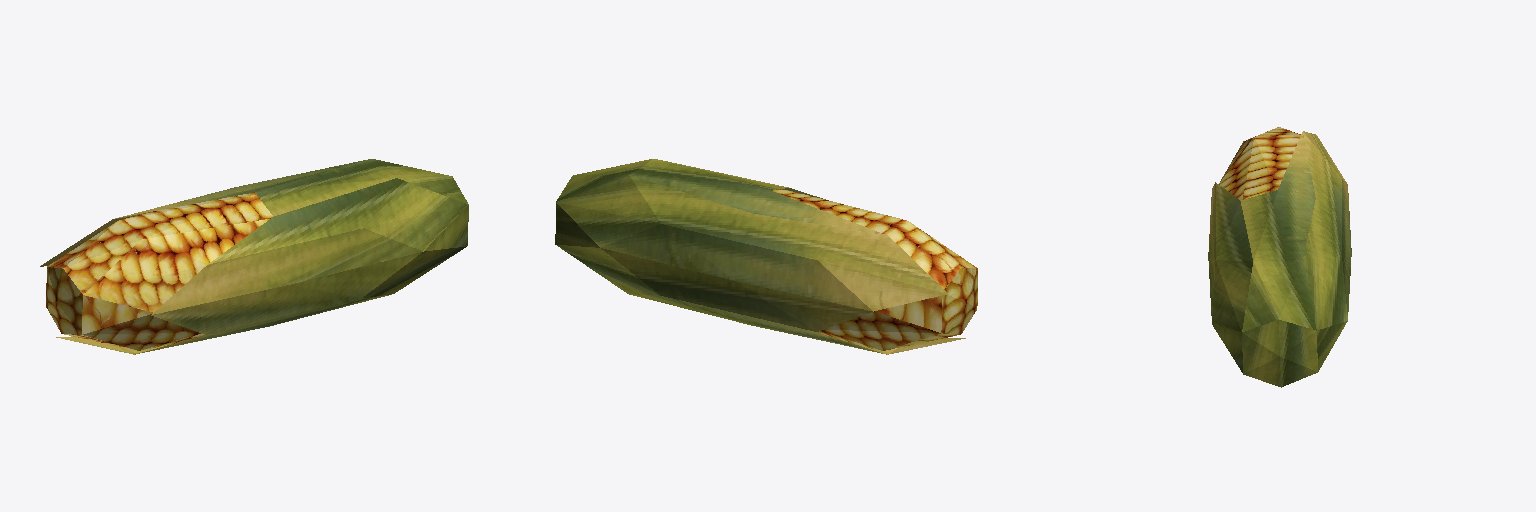
The picture shows the model from 3 angles: view 1: azimuth 30°, elevation 25°; view 2: azimuth 150°, elevation 25°; view 3: azimuth 270°, elevation 25°; orthographic projection.
Parts seen in each view (by area): view 1: Cylinder.001; view 2: Cylinder.001; view 3: Cylinder.001.
Boxes of the visible parts, <box> form: Cylinder.001: <box>40,159,468,354</box>; Cylinder.001: <box>555,159,977,354</box>; Cylinder.001: <box>1208,127,1351,387</box>.
Size of the model in its own units: 0.9283 by 0.2861 by 0.2861.
Materials: 1 (1 with a texture image).